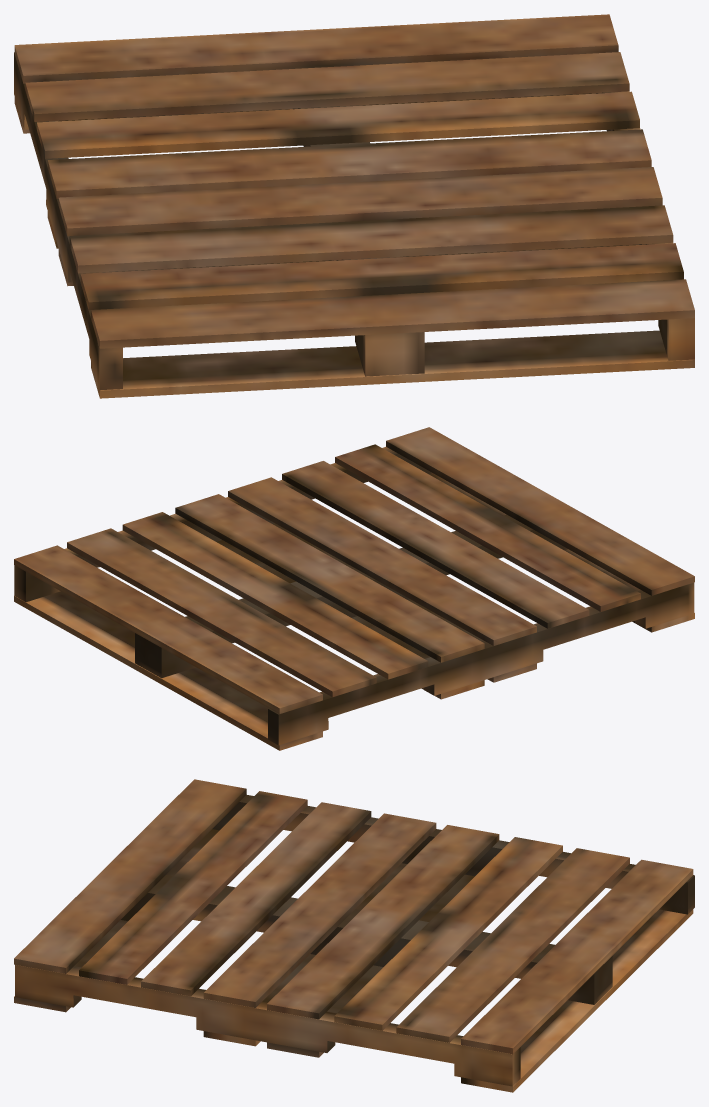
The model's file is tj_pallet_b.fbx.
3 renders of one model, top to bottom at view 1: azimuth 30°, elevation 25°; view 2: azimuth 150°, elevation 25°; view 3: azimuth 270°, elevation 25°, orthographic. The views are drawn at different scales.
Visible parts, largest first — view 1: tj_pallet_b_LOD0; view 2: tj_pallet_b_LOD0; view 3: tj_pallet_b_LOD0.
Boxes of the visible parts, x1,y1,x2,y2 form: tj_pallet_b_LOD0: (14,14,694,398); tj_pallet_b_LOD0: (14,427,694,750); tj_pallet_b_LOD0: (14,779,694,1092).
Size of what is drawn, in the model's own units: 1.77 by 0.1359 by 1.89.
